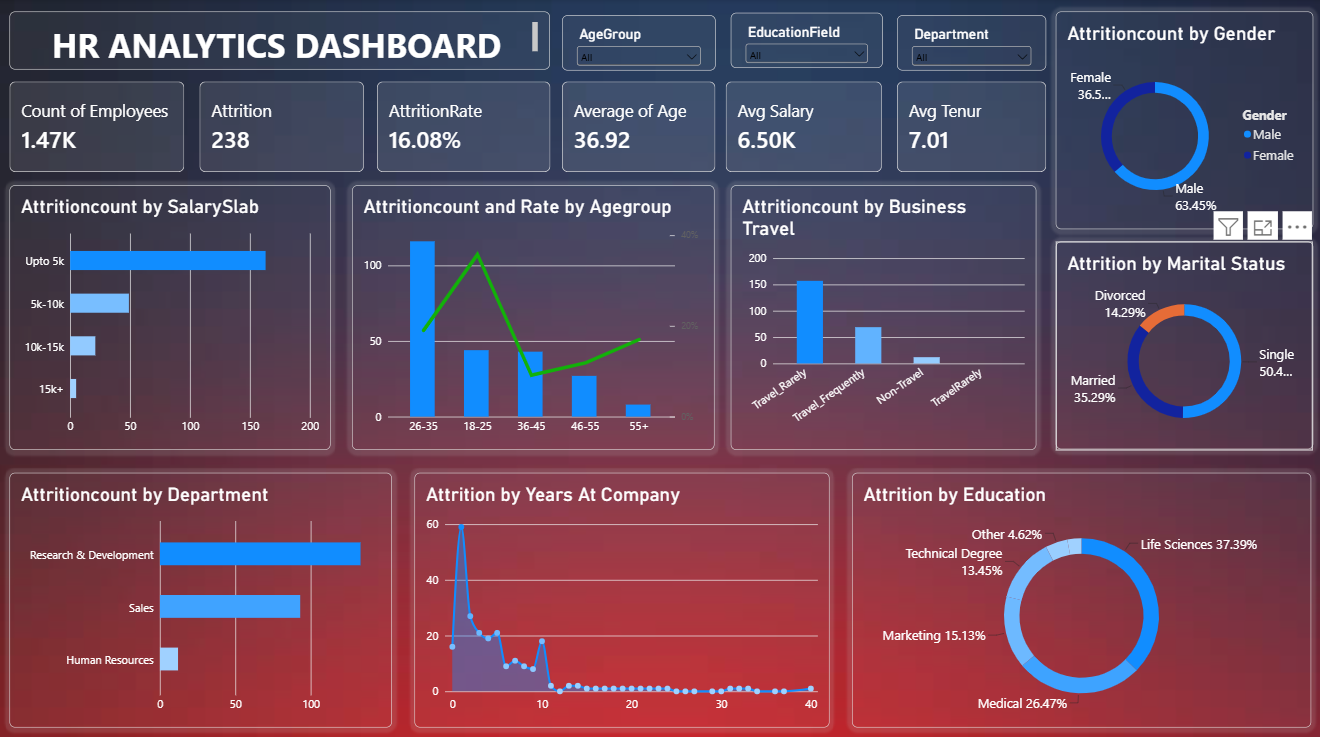

The page's visual inventory and layout, read from the dashboard file:
{"tool":"powerbi","page":{"name":"Page 1","canvas":[1920,1080],"ordinal":0},"visuals":[{"type":"textbox","box":[18.5,18.5,782.2,84.4],"z":0},{"type":"cardVisual","fields":{"Data":["Sum(HR_Analytics.Attritioncount)"]},"box":[292.3,119.4,238.8,131.7],"z":1000},{"type":"cardVisual","fields":{"Data":["Count(HR_Analytics.EmpID)"]},"box":[18.5,119.4,253.2,131.7],"z":2000},{"type":"cardVisual","fields":{"Data":["HR_Analytics.AttritionRate"]},"box":[549.6,119.4,251.1,131.7],"z":3000},{"type":"cardVisual","fields":{"Data":["Avg(HR_Analytics.Age)"]},"box":[817.2,119.4,222.3,131.7],"z":4000},{"type":"cardVisual","fields":{"Data":["Avg(HR_Analytics.MonthlyIncome)"]},"box":[1055.9,119.4,226.4,131.7],"z":5000},{"type":"cardVisual","fields":{"Data":["Avg(HR_Analytics.YearsAtCompany)"]},"box":[1302.9,119.4,216.1,131.7],"z":6000},{"type":"donutChart","title":"Attritioncount by Gender","fields":{"Category":["HR_Analytics.Gender"],"Y":["Sum(HR_Analytics.Attritioncount)"]},"box":[1533.5,18.5,372.6,314.9],"z":7000},{"type":"donutChart","title":"Attrition by Education","fields":{"Y":["Sum(HR_Analytics.Attritioncount)"],"Category":["HR_Analytics.EducationField"]},"box":[1237.1,685.4,664.8,368.4],"z":8000},{"type":"lineStackedColumnComboChart","title":"Attritioncount and Rate by Agegroup","fields":{"Category":["HR_Analytics.AgeGroup"],"Y":["Sum(HR_Analytics.Attritioncount)"],"Y2":["HR_Analytics.AttritionRate"]},"box":[514.6,269.6,524.9,382.8],"z":9000},{"type":"barChart","title":" Attritioncount by SalarySlab","fields":{"Y":["Sum(HR_Analytics.Attritioncount)"],"Category":["HR_Analytics.SalarySlab"]},"box":[18.5,269.6,465.2,382.8],"z":10000},{"type":"areaChart","title":"Attrition by Years At Company","fields":{"Category":["HR_Analytics.YearsAtCompany"],"Y":["Sum(HR_Analytics.Attritioncount)"]},"box":[605.1,685.4,601,368.4],"z":11000},{"type":"donutChart","title":"Attrition by Marital Status","fields":{"Y":["Sum(HR_Analytics.Attritioncount)"],"Category":["HR_Analytics.MaritalStatus"]},"box":[1533.5,352,372.6,300.5],"z":12000},{"type":"barChart","title":" Attritioncount by Department","fields":{"Y":["Sum(HR_Analytics.Attritioncount)"],"Category":["HR_Analytics.Department"]},"box":[18.5,685.4,553.7,368.4],"z":13000},{"type":"columnChart","title":" Attritioncount by Business Travel","fields":{"Y":["Sum(HR_Analytics.Attritioncount)"],"Category":["HR_Analytics.BusinessTravel"]},"box":[1062.1,269.6,442.5,382.8],"z":14000},{"type":"slicer","fields":{"Values":["HR_Analytics.AgeGroup"]},"box":[817.2,22.6,222.3,80.3],"z":15000},{"type":"slicer","fields":{"Values":["HR_Analytics.EducationField"]},"box":[1062.1,20.6,220.2,80.3],"z":16000},{"type":"slicer","fields":{"Values":["HR_Analytics.Department"]},"box":[1302.9,22.6,216.1,80.3],"z":17000}]}

Visuals, with their boxes in screenshot pixels (x1, y1, x2, y2), scaled from the page's 1920x1080 canvas onto the 1320x737 screenshot:
textbox: {"left": 13, "top": 13, "right": 550, "bottom": 70}
cardVisual - Sum(HR_Analytics.Attritioncount): {"left": 201, "top": 81, "right": 365, "bottom": 171}
cardVisual - Count(HR_Analytics.EmpID): {"left": 13, "top": 81, "right": 187, "bottom": 171}
cardVisual - HR_Analytics.AttritionRate: {"left": 378, "top": 81, "right": 550, "bottom": 171}
cardVisual - Avg(HR_Analytics.Age): {"left": 562, "top": 81, "right": 715, "bottom": 171}
cardVisual - Avg(HR_Analytics.MonthlyIncome): {"left": 726, "top": 81, "right": 882, "bottom": 171}
cardVisual - Avg(HR_Analytics.YearsAtCompany): {"left": 896, "top": 81, "right": 1044, "bottom": 171}
"Attritioncount by Gender" donutChart: {"left": 1054, "top": 13, "right": 1310, "bottom": 228}
"Attrition by Education" donutChart: {"left": 851, "top": 468, "right": 1308, "bottom": 719}
"Attritioncount and Rate by Agegroup" lineStackedColumnComboChart: {"left": 354, "top": 184, "right": 715, "bottom": 445}
" Attritioncount by SalarySlab" barChart: {"left": 13, "top": 184, "right": 333, "bottom": 445}
"Attrition by Years At Company" areaChart: {"left": 416, "top": 468, "right": 829, "bottom": 719}
"Attrition by Marital Status" donutChart: {"left": 1054, "top": 240, "right": 1310, "bottom": 445}
" Attritioncount by Department" barChart: {"left": 13, "top": 468, "right": 393, "bottom": 719}
" Attritioncount by Business Travel" columnChart: {"left": 730, "top": 184, "right": 1034, "bottom": 445}
slicer - HR_Analytics.AgeGroup: {"left": 562, "top": 15, "right": 715, "bottom": 70}
slicer - HR_Analytics.EducationField: {"left": 730, "top": 14, "right": 882, "bottom": 69}
slicer - HR_Analytics.Department: {"left": 896, "top": 15, "right": 1044, "bottom": 70}
